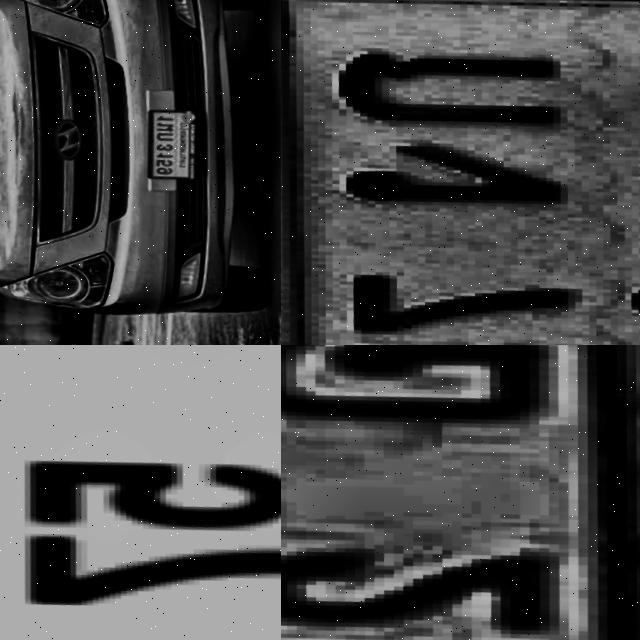license-plate: (281, 0, 640, 345), (281, 345, 640, 640), (0, 345, 281, 640), (144, 97, 207, 175)
